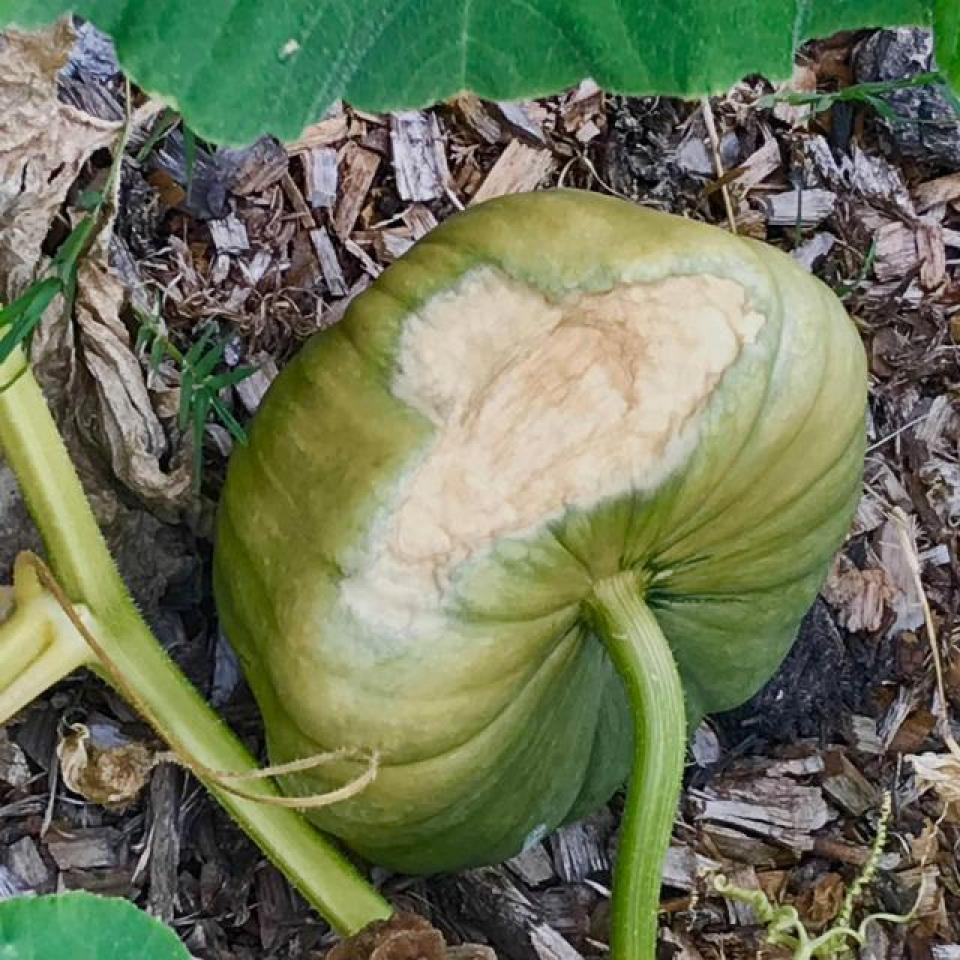Sunscald: (338, 256, 764, 638)
